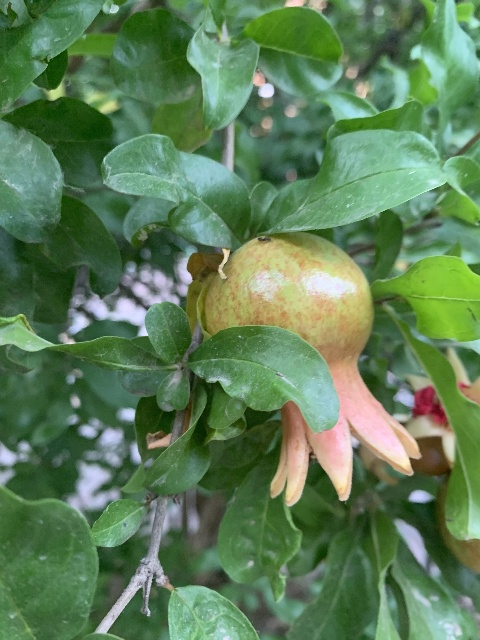early-fruit: (203, 234, 422, 505)
